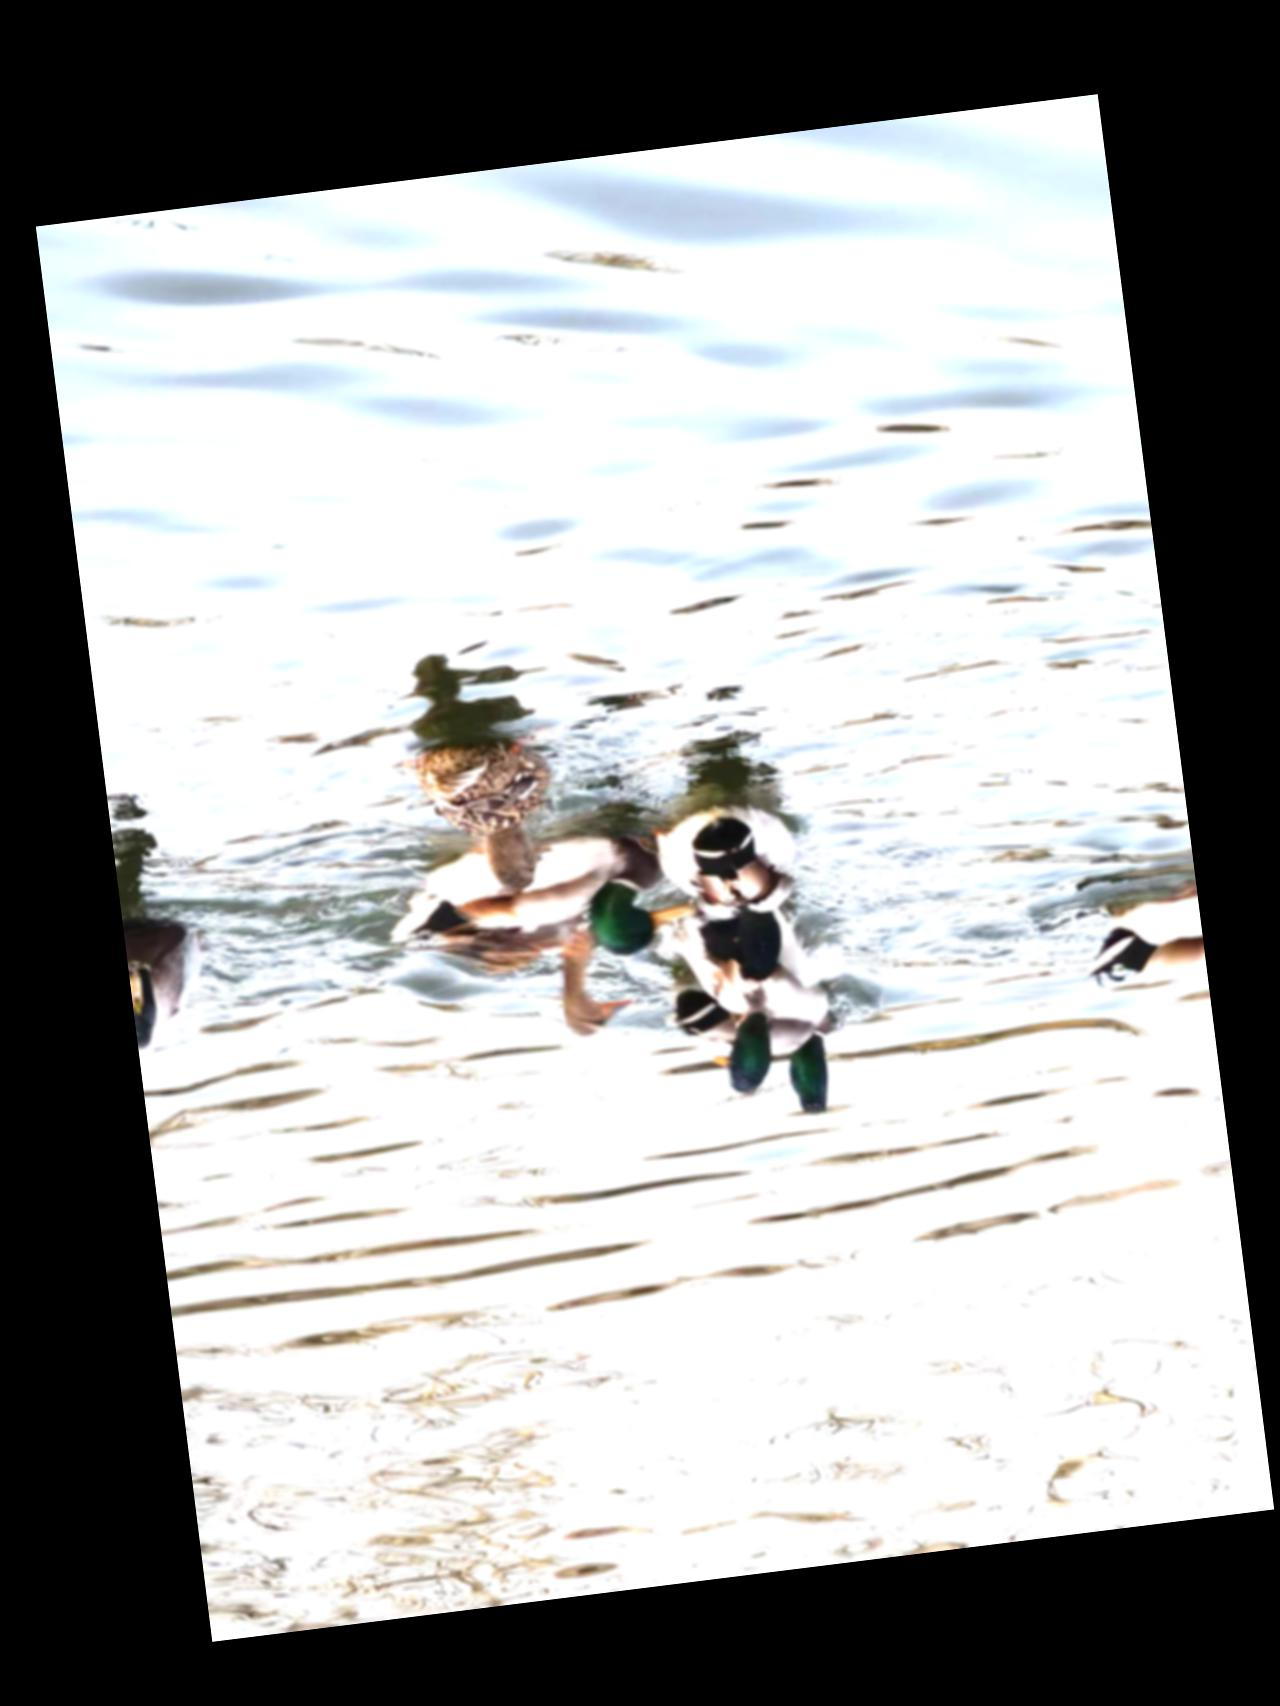duck: (382, 797, 699, 983), (381, 717, 588, 910), (644, 786, 830, 993), (430, 885, 639, 1059), (682, 968, 869, 1131), (662, 911, 792, 1106), (1074, 877, 1207, 1008), (124, 924, 239, 1074)
